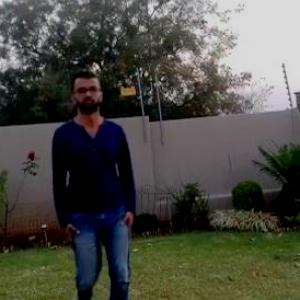follow: (56, 79, 136, 299)
